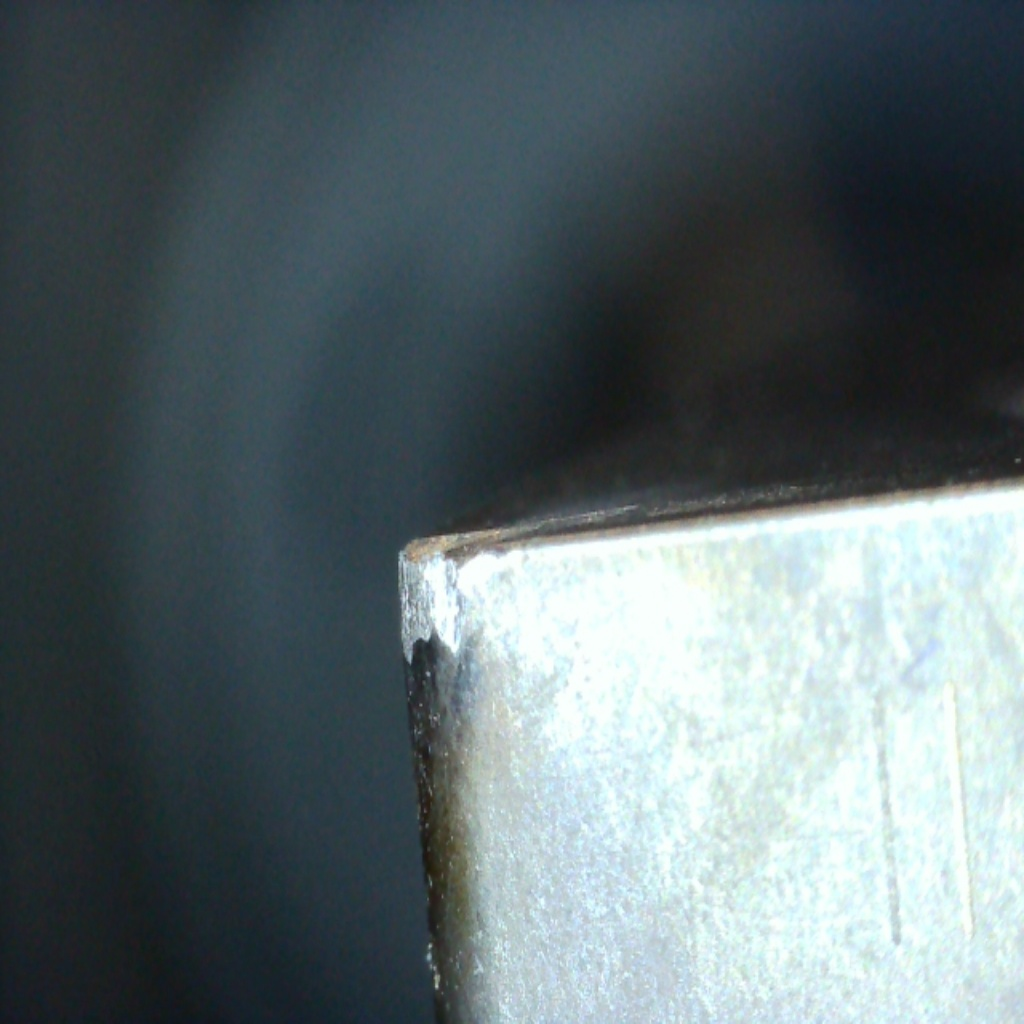flank_wear: (398, 545, 482, 668)
